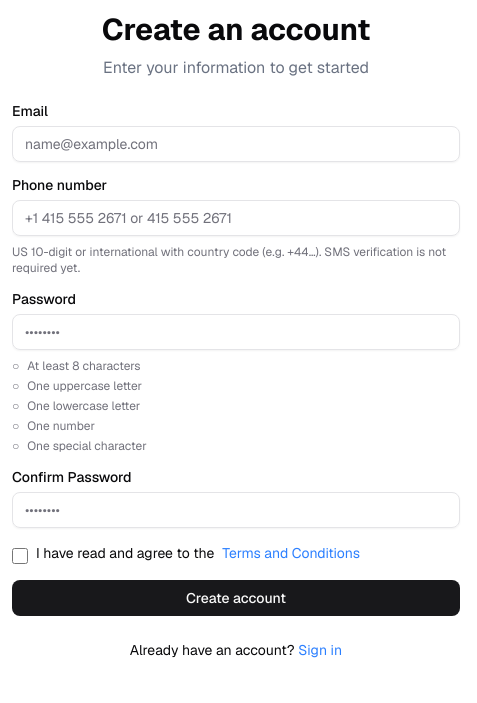
Authentication Flow › RegisterForm › shows password mismatch while typing confirm password
In the password field labelled "Password": (236, 332) top-left (12, 314), bottom-right (460, 350), type "Secure1!pass"
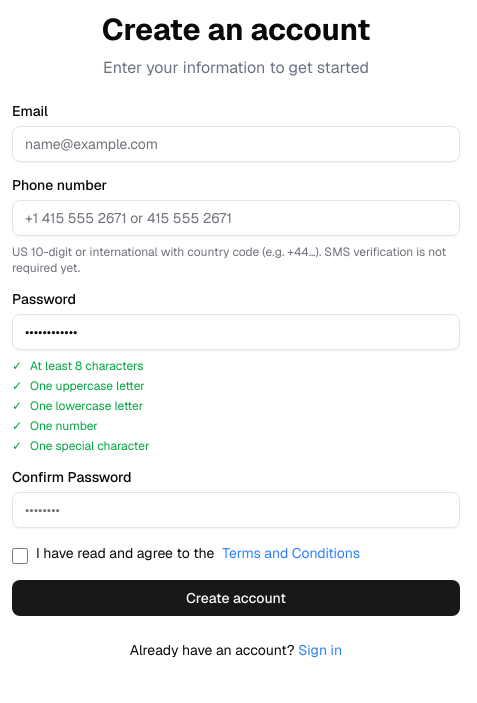
In the password field labelled "Confirm Password": (236, 510) top-left (12, 492), bottom-right (460, 528), type "different"
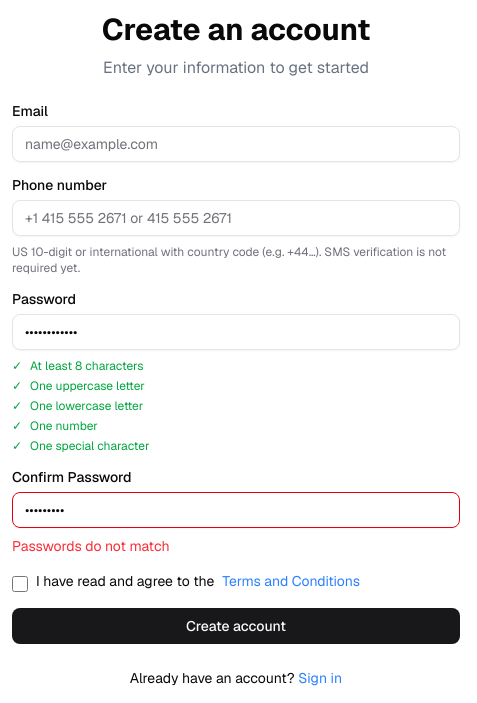
Check: the text "Passwords do not match" is shown, box top-left (12, 537), bottom-right (170, 555)
